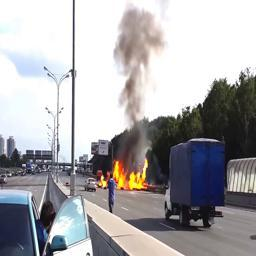fire: (98, 159, 148, 190)
